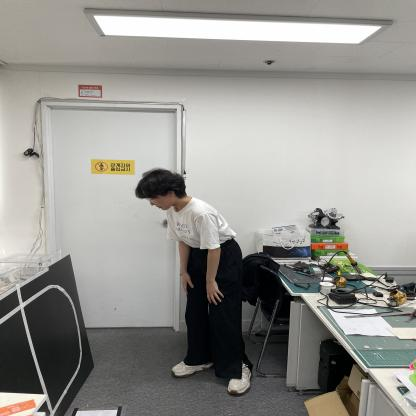normal: (128, 162, 256, 398)
